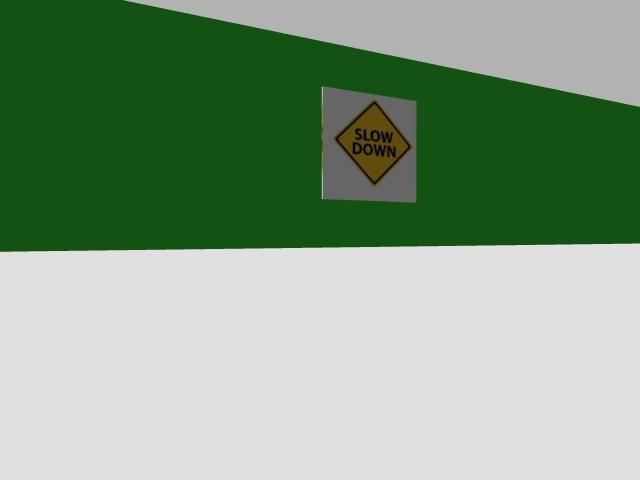slowsign: (321, 87, 416, 202)
